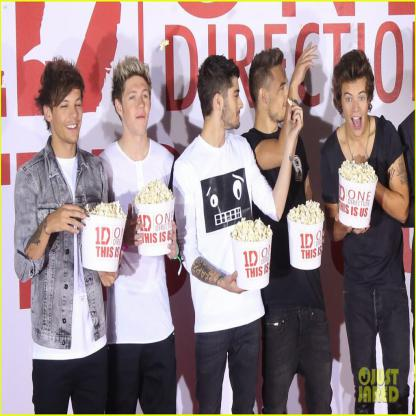face: (53, 83, 82, 143), (122, 76, 151, 136), (343, 80, 370, 137), (269, 65, 292, 122), (223, 79, 245, 131)
